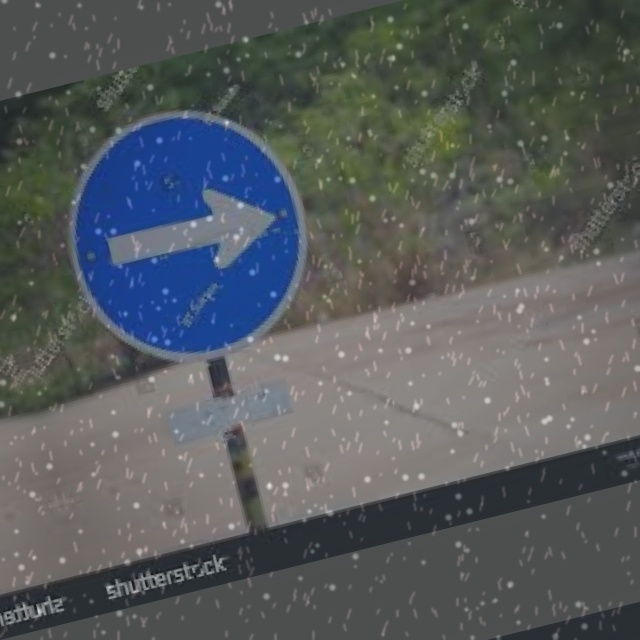Compulsory_Turn_Right: (51, 83, 334, 383)
